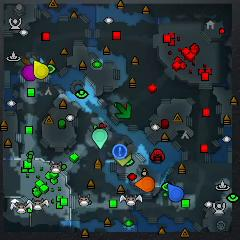p1: (168, 183, 184, 202)
p2: (93, 128, 107, 149)
p3: (22, 65, 36, 81)
p4: (34, 60, 49, 79)
p5: (134, 177, 154, 191)
x2: (114, 152, 132, 166)
x3: (30, 57, 44, 64)
x4: (116, 103, 132, 119)
x5: (22, 55, 36, 65)
